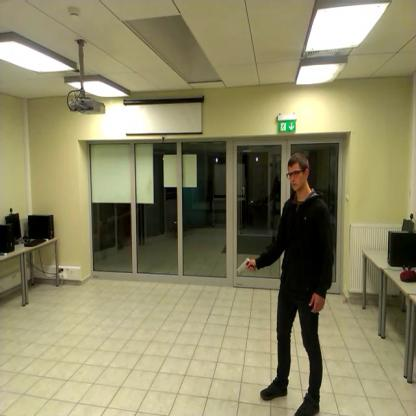Pistol: (230, 249, 259, 283)
